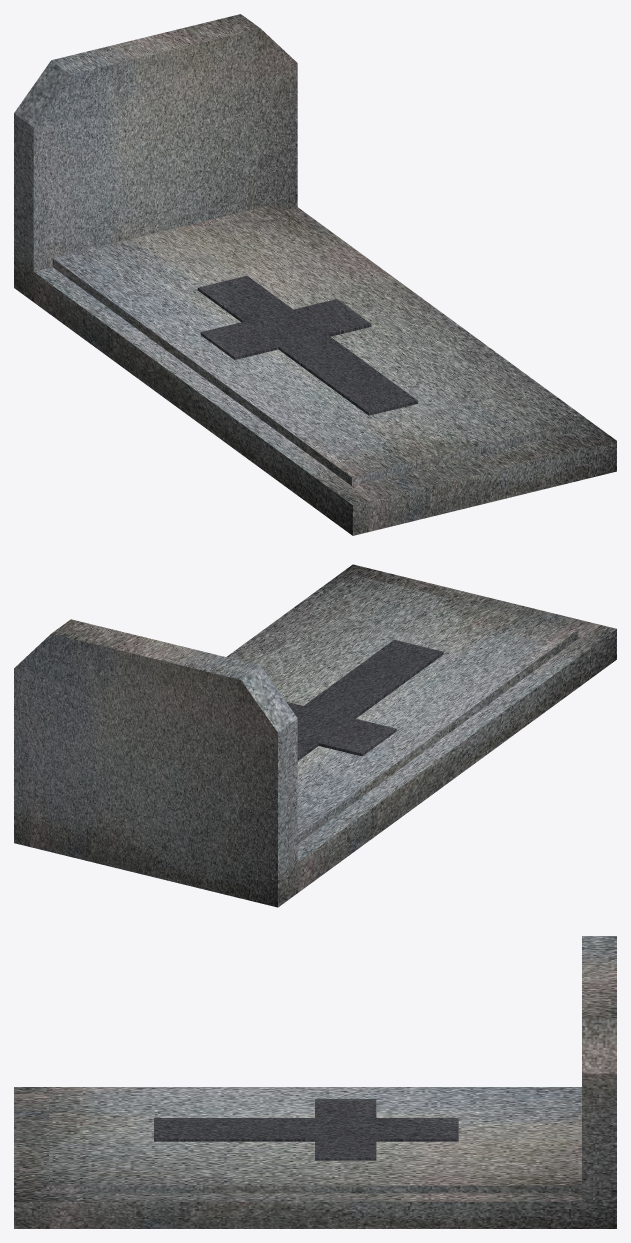
The model's file is tombe.FBX.
3 views of the same model, one above another, from view 1: azimuth 30°, elevation 25°; view 2: azimuth 150°, elevation 25°; view 3: azimuth 270°, elevation 25° (orthographic). The views are drawn at different scales.
Parts seen in each view (by area): view 1: Box001, Box002; view 2: Box001, Box002; view 3: Box001, Box002.
Part boxes in pixels (x1,y1,x2,y2): Box001: (14,14,616,535); Box002: (197,275,418,415); Box001: (14,564,616,907); Box002: (286,639,443,760); Box001: (14,936,616,1228); Box002: (154,1099,458,1160).
Bounding box in the file's own units: 90 × 71.17 × 200.
